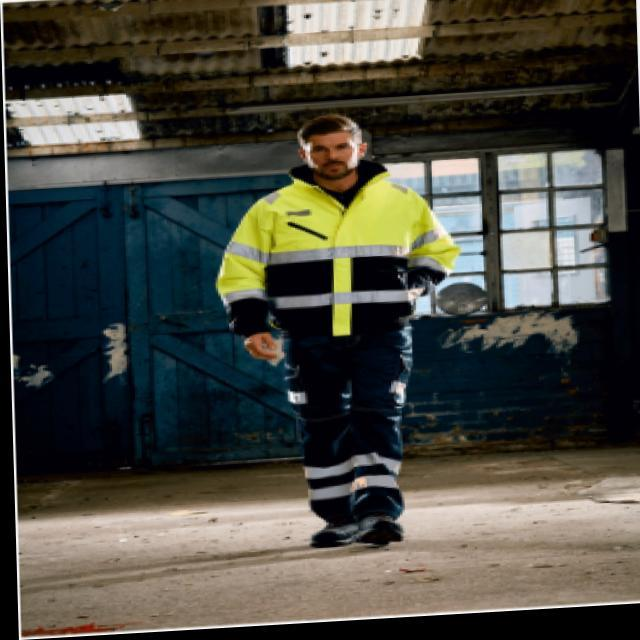boots: (305, 505, 416, 557)
vest: (205, 147, 462, 350)
